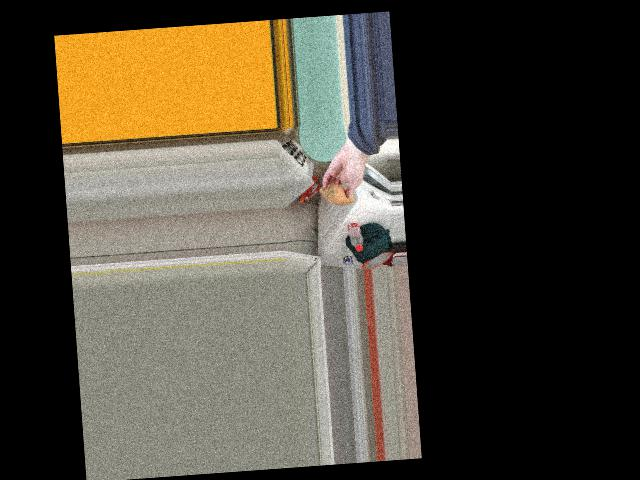sweet_potato: (322, 179, 352, 206)
